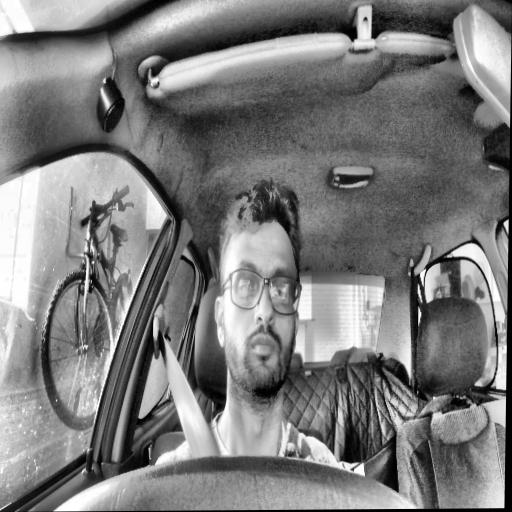awake: (213, 180, 304, 403)
